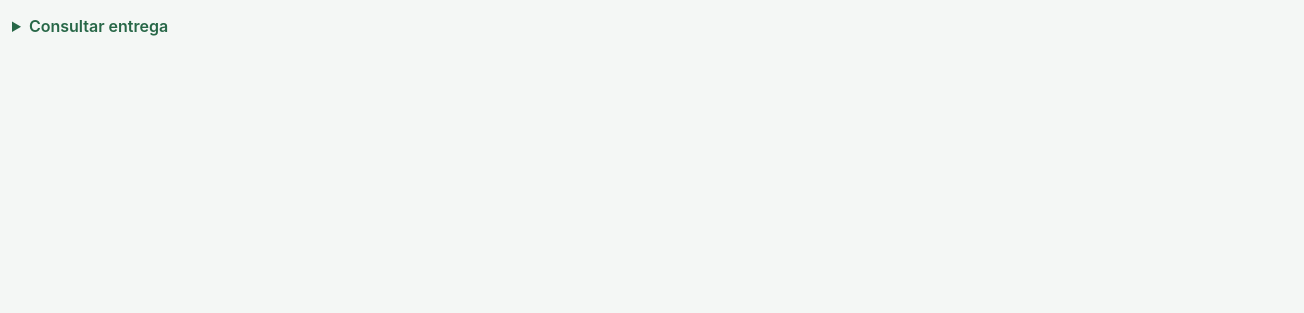
Test case: design system da loja › consulta taxa sem recalcular a regra do backend
Step 1. Click the heading "Consultar entrega" → [98, 26], box [29, 16, 168, 36]
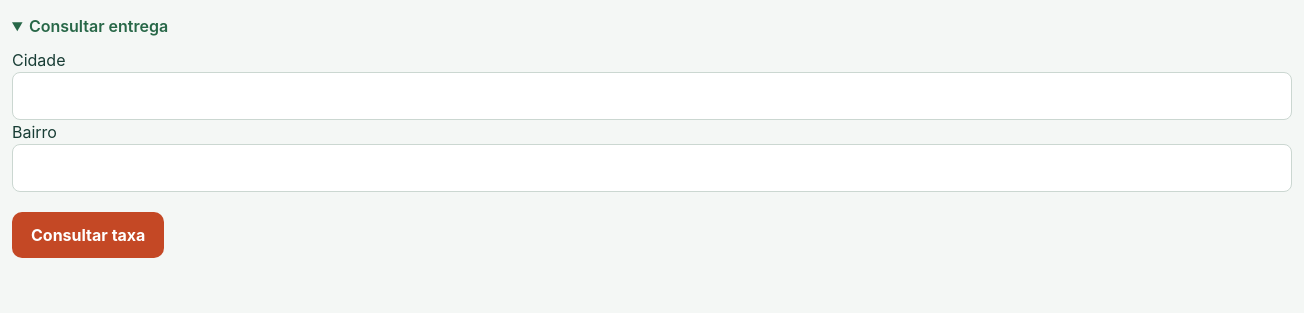
Step 2. Type "Itapevi" into the field labelled "Cidade" → [652, 96], box [12, 72, 1292, 120]
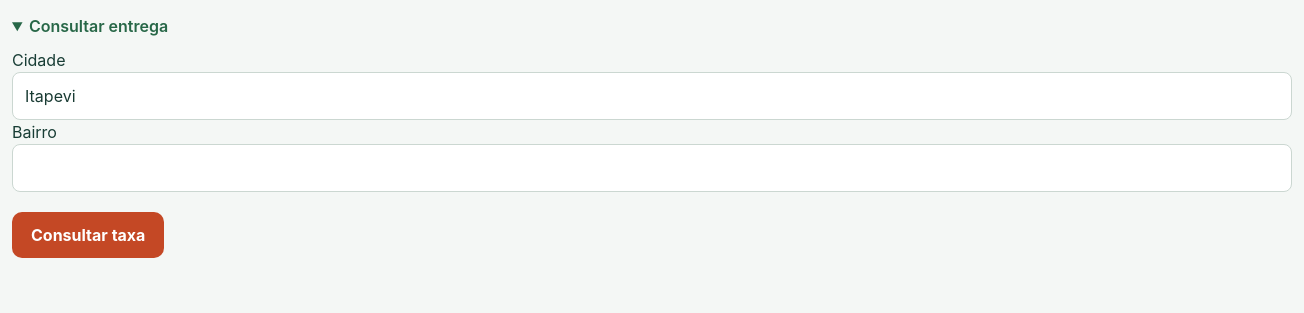
Step 3. Type "Centro" into the field labelled "Bairro" → [652, 168], box [12, 144, 1292, 192]
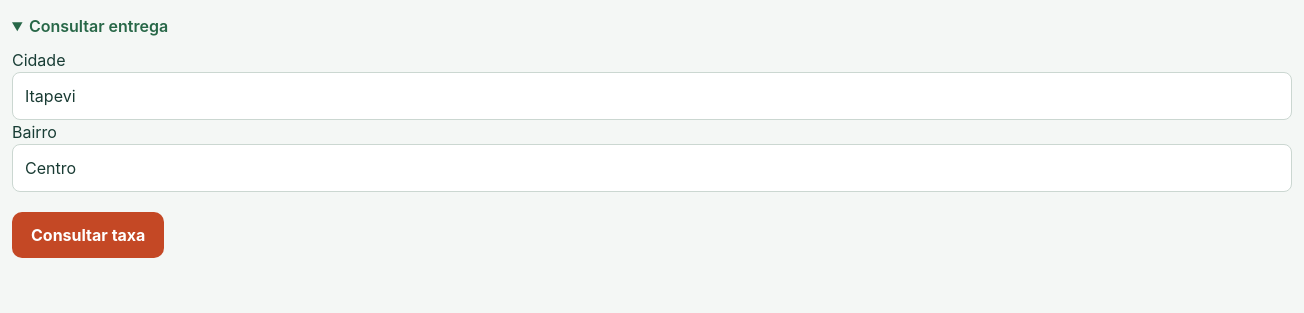
Step 4. Click the button "Consultar taxa" → [88, 235], box [12, 212, 164, 258]
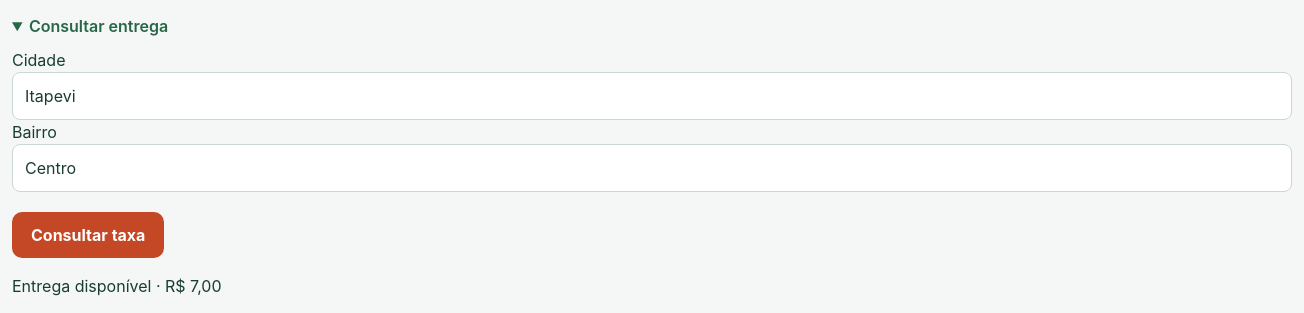
Check: the message shows "R$ 7,00", box [12, 276, 222, 296]
